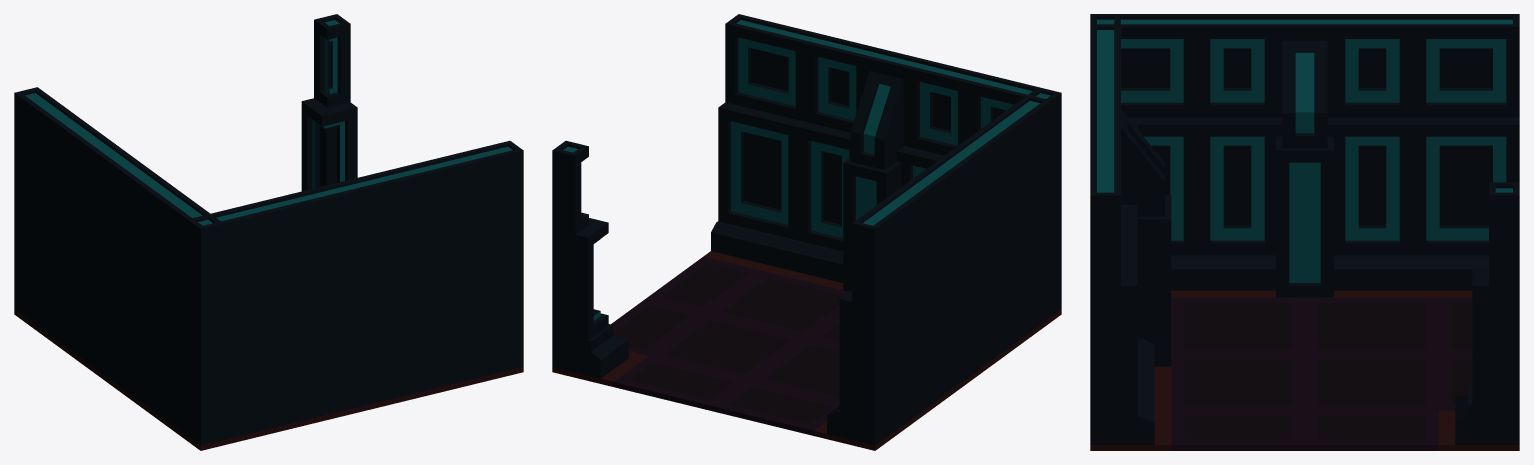
File: AngleMaze.fbx
3 renders of one model, left to right at view 1: azimuth 30°, elevation 25°; view 2: azimuth 150°, elevation 25°; view 3: azimuth 270°, elevation 25°, orthographic. The views are drawn at different scales.
Visible parts, largest first — view 1: Angle_way; view 2: Angle_way; view 3: Angle_way.
Part boxes in pixels (x1=…): Angle_way: x1=14, y1=14, x2=523, y2=450; Angle_way: x1=552, y1=14, x2=1061, y2=450; Angle_way: x1=1090, y1=14, x2=1519, y2=450.
Size of the model in its own units: 1116 by 733 by 1116.
